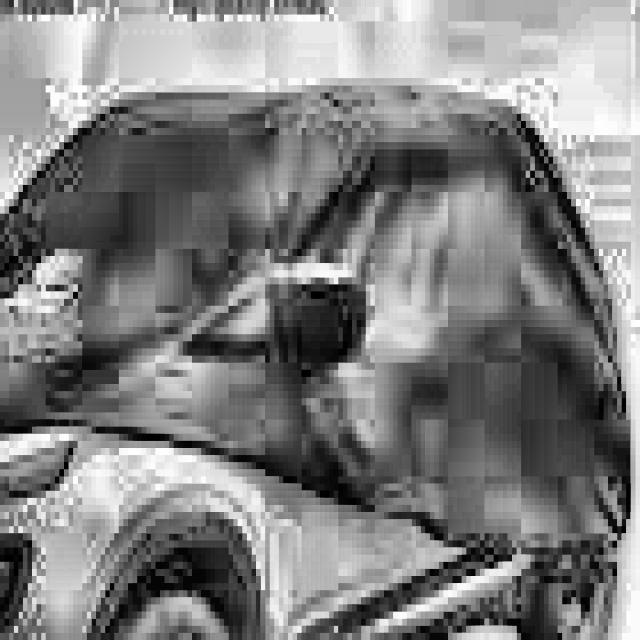light_vehicle: (0, 78, 631, 640)
